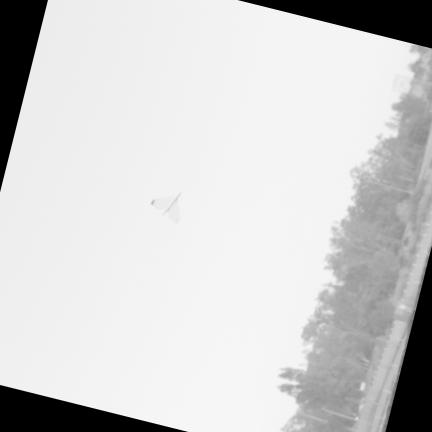Shahed: (151, 190, 180, 221)
